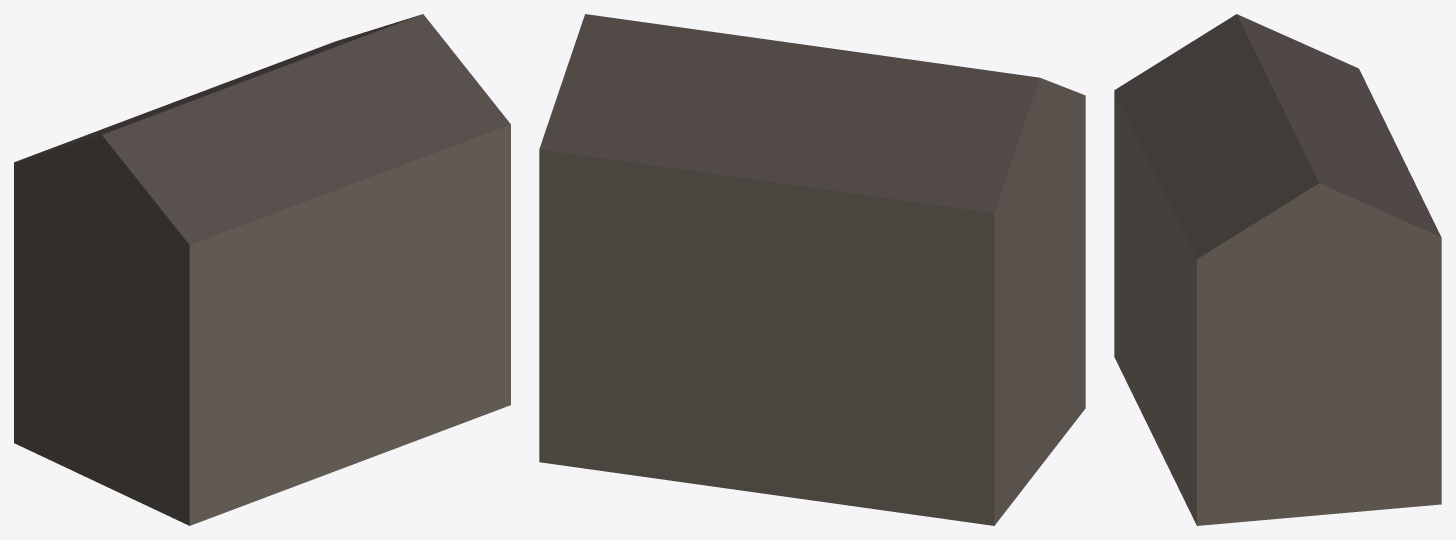
3 renders of one model, left to right at view 1: azimuth 30°, elevation 25°; view 2: azimuth 150°, elevation 25°; view 3: azimuth 270°, elevation 25°, orthographic. The views are drawn at different scales.
Parts seen in each view (by area): view 1: HP-w1424106433; view 2: HP-w1424106433; view 3: HP-w1424106433.
Boxes of the visible parts, x1,y1,x2,y2 form: HP-w1424106433: [14, 14, 510, 525]; HP-w1424106433: [539, 14, 1085, 525]; HP-w1424106433: [1114, 14, 1441, 525].
Size of the model in its own units: 9.2 by 7.47 by 6.67.
